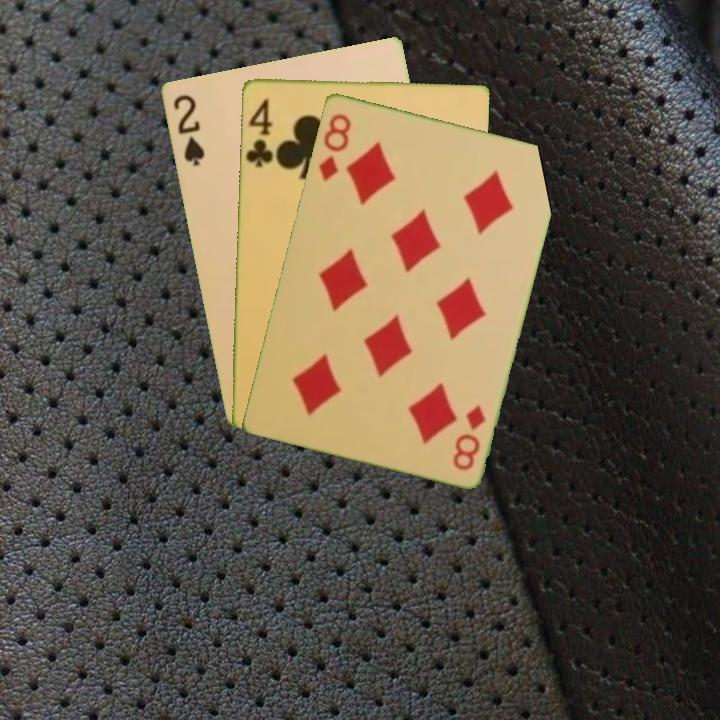2s: (169, 90, 207, 169)
4c: (242, 95, 276, 170)
8d: (315, 109, 354, 184), (449, 400, 488, 473)
